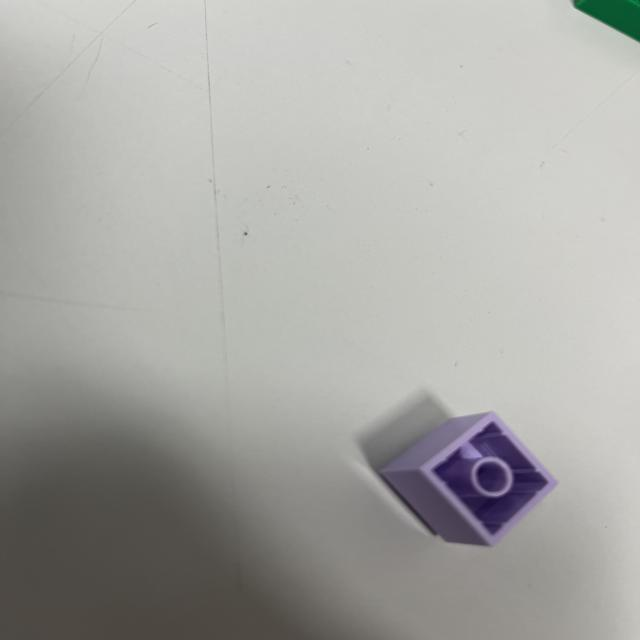C2x1x1: (377, 410, 559, 548)
